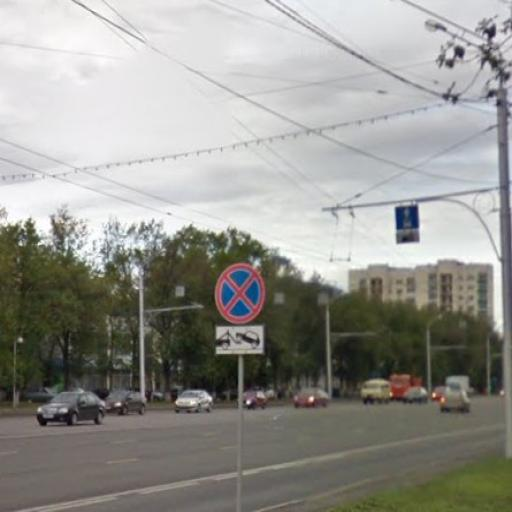traffic_sign: (214, 263, 268, 327)
